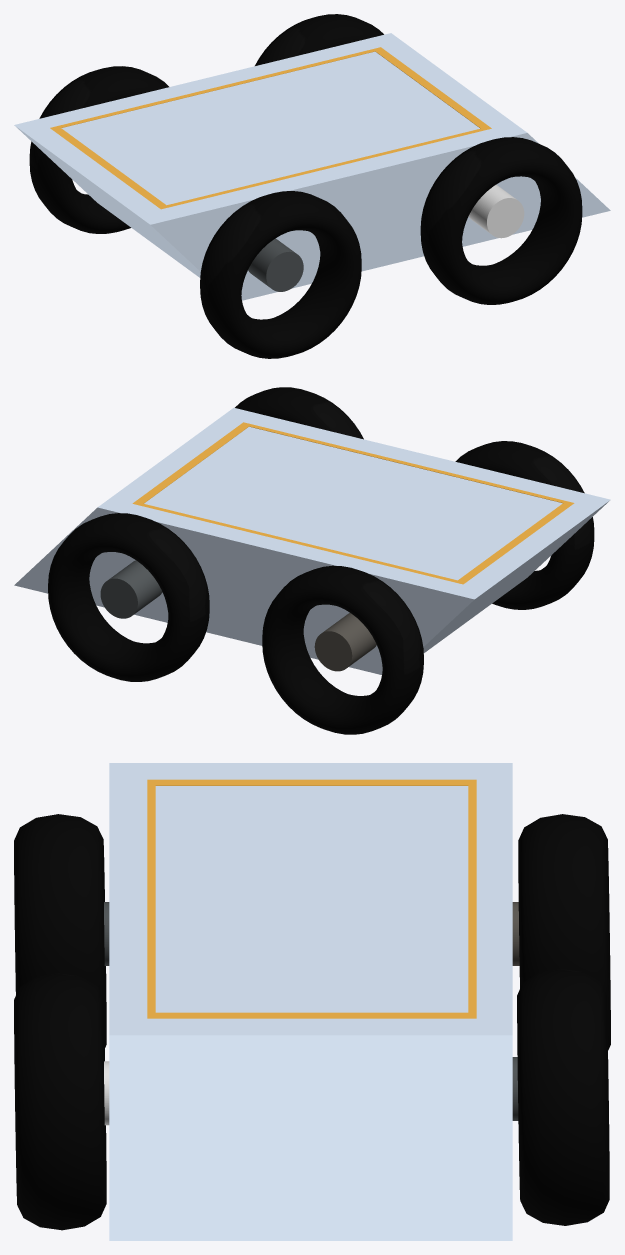
Rendered from Robot2.glb.
3 renders of one model, top to bottom at view 1: azimuth 30°, elevation 25°; view 2: azimuth 150°, elevation 25°; view 3: azimuth 270°, elevation 25°, orthographic. The views are drawn at different scales.
Visible parts, largest first — view 1: Plataforma principal do chassi, Torus, Torus.001, Torus.002, Plane, Torus.003, Cylinder, Cylinder.001; view 2: Plataforma principal do chassi, Torus.003, Torus.002, Torus.001, Plane, Torus, Cylinder.002, Cylinder.003; view 3: Plataforma principal do chassi, Torus.003, Torus, Torus.001, Torus.002, Plane.
Boxes of the visible parts, x1,y1,x2,y2 form: Plataforma principal do chassi: [14, 33, 610, 300]; Torus: [420, 137, 582, 304]; Torus.001: [200, 191, 361, 358]; Torus.002: [29, 66, 168, 233]; Plane: [50, 47, 491, 209]; Torus.003: [255, 14, 383, 65]; Cylinder: [468, 184, 524, 238]; Cylinder.001: [248, 238, 303, 291]; Plataforma principal do chassi: [14, 408, 610, 674]; Torus.003: [48, 513, 209, 681]; Torus.002: [262, 565, 423, 734]; Torus.001: [455, 441, 594, 609]; Plane: [132, 422, 574, 584]; Torus: [235, 387, 363, 439]; Cylinder.002: [314, 613, 376, 671]; Cylinder.003: [100, 560, 162, 618]; Plataforma principal do chassi: [109, 763, 512, 1240]; Torus.003: [517, 969, 609, 1225]; Torus: [14, 973, 106, 1230]; Torus.001: [14, 814, 106, 1048]; Torus.002: [518, 814, 610, 1050]; Plane: [147, 779, 476, 1018].
Bounding box in the file's own units: 5.17 × 1.69 × 3.92.
Materials: 5 (1 with a texture image).
